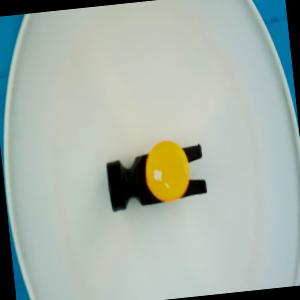martelo: (102, 135, 206, 211)
